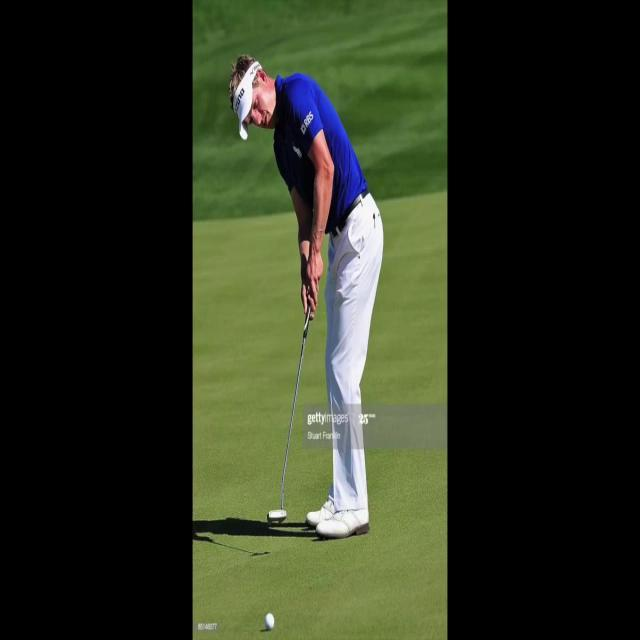ClubHead: (258, 498, 292, 532)
GolfBall: (262, 608, 278, 631)
